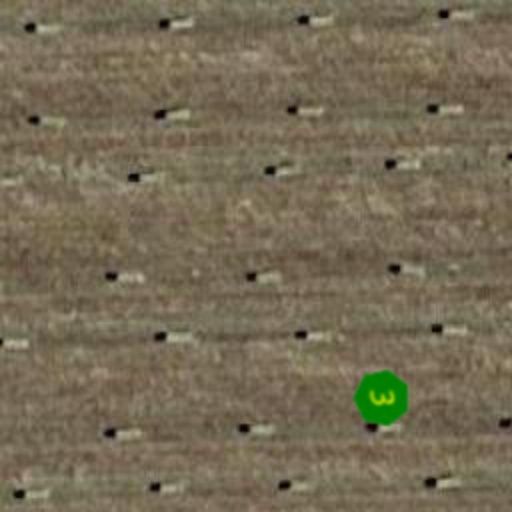heptagon: (346, 362, 418, 434)
